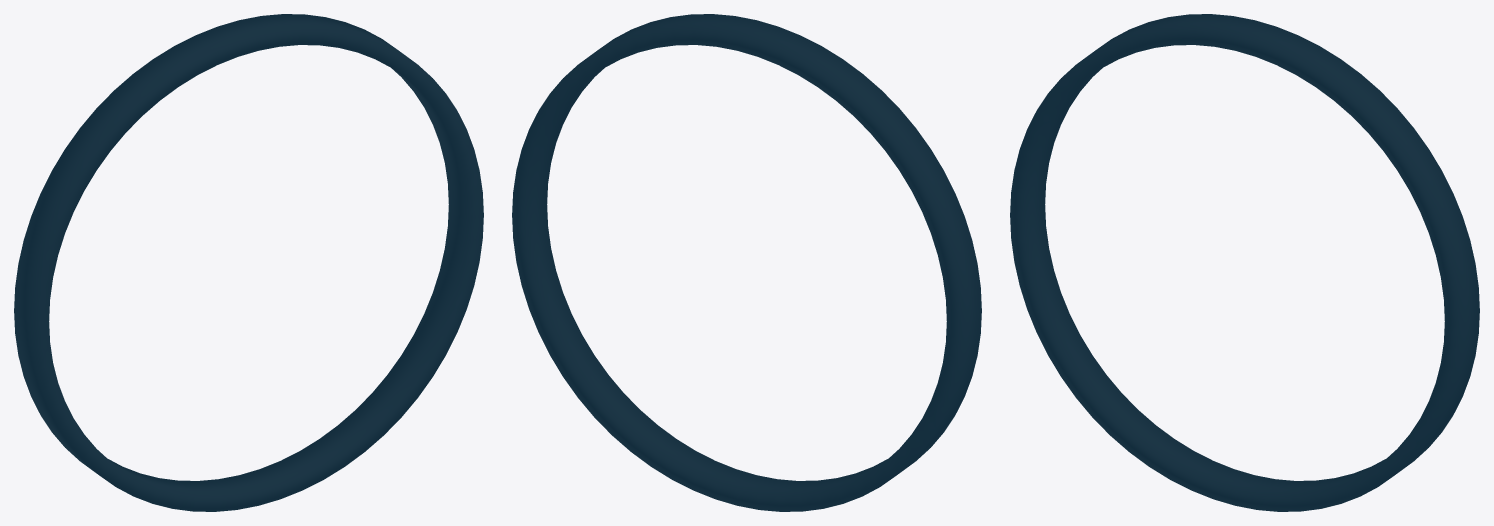
File: simple1.gltf
The picture shows the model from 3 angles, left to right: view 1: azimuth 30°, elevation 25°; view 2: azimuth 150°, elevation 25°; view 3: azimuth 330°, elevation 25°; orthographic projection.
Parts seen in each view (by area): view 1: Circle; view 2: Circle; view 3: Circle.
Boxes of the visible parts, left/top/right/bottom form: Circle: left=14, top=14, right=483, bottom=511; Circle: left=512, top=14, right=981, bottom=511; Circle: left=1010, top=14, right=1479, bottom=511.
Bounding box in the file's own units: 2 × 2 × 0.15.
